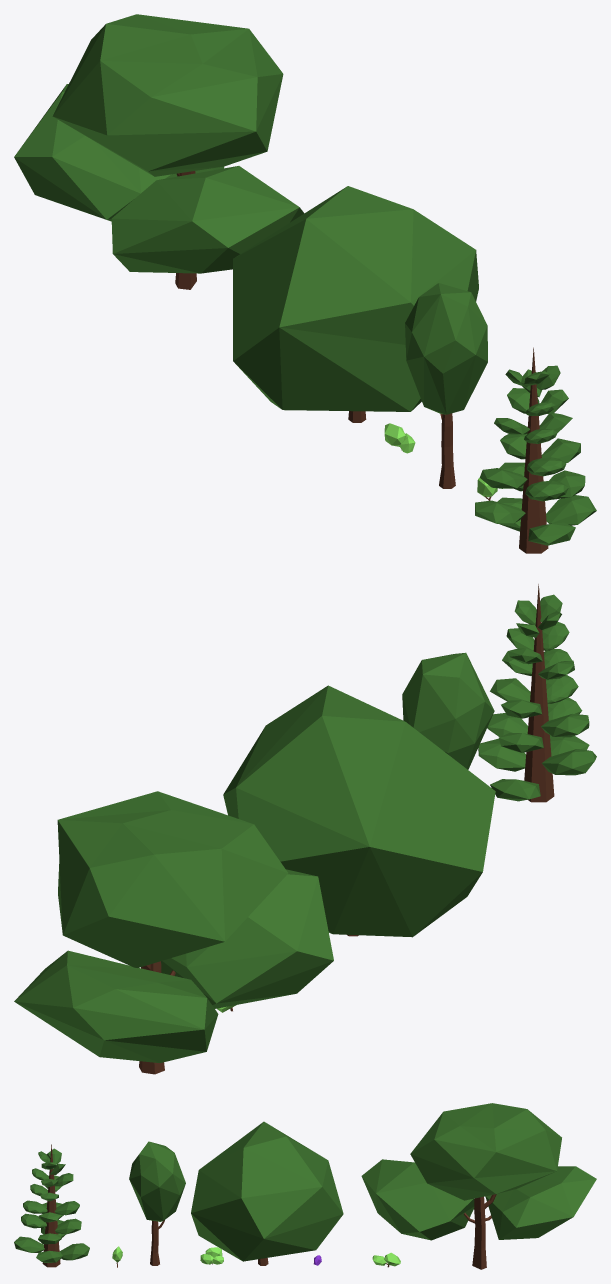
The model's file is shrubs.fbx.
3 renders of one model, top to bottom at view 1: azimuth 30°, elevation 25°; view 2: azimuth 150°, elevation 25°; view 3: azimuth 270°, elevation 25°, orthographic. The views are drawn at different scales.
Parts seen in each view (by area): view 1: Boom_03, Boom_04, Boom_01, Boom_02; view 2: Boom_03, Boom_04, Boom_01, Boom_02; view 3: Boom_03, Boom_04, Boom_01, Boom_02, Struik_02, Struik_01.
Boxes of the visible parts, box(x1,y1,x2,y2) form: Boom_03: box(14, 14, 304, 289); Boom_04: box(233, 186, 478, 422); Boom_01: box(475, 347, 596, 553); Boom_02: box(405, 283, 487, 488); Boom_03: box(14, 791, 333, 1074); Boom_04: box(223, 685, 495, 937); Boom_01: box(478, 584, 596, 802); Boom_02: box(402, 652, 494, 769); Boom_03: box(361, 1103, 596, 1269); Boom_04: box(191, 1121, 343, 1265); Boom_01: box(14, 1144, 89, 1267); Boom_02: box(129, 1141, 185, 1265); Struik_02: box(200, 1247, 223, 1264); Struik_01: box(372, 1252, 400, 1267).
Size of the model in its own units: 176 by 166 by 600.
